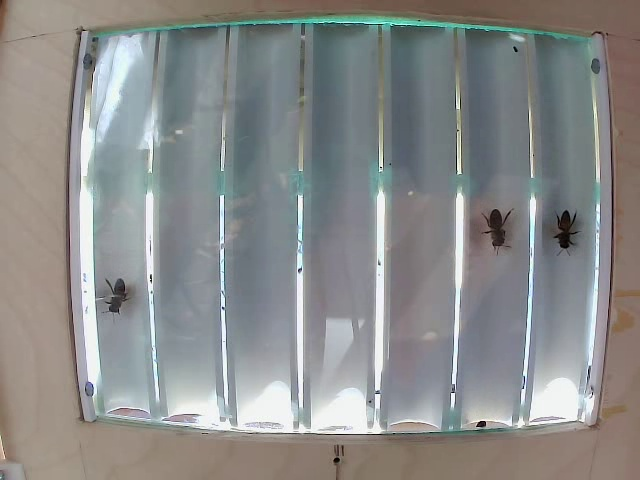bee: (107, 283, 140, 329), (483, 206, 511, 255), (555, 201, 571, 254)
